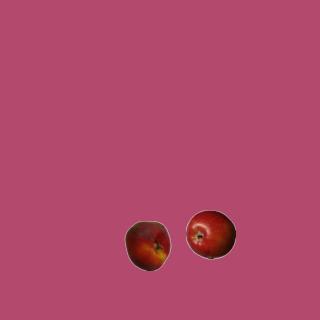Apple Braeburn: (185, 209, 235, 259)
Nectarine Flat: (122, 220, 172, 270)
